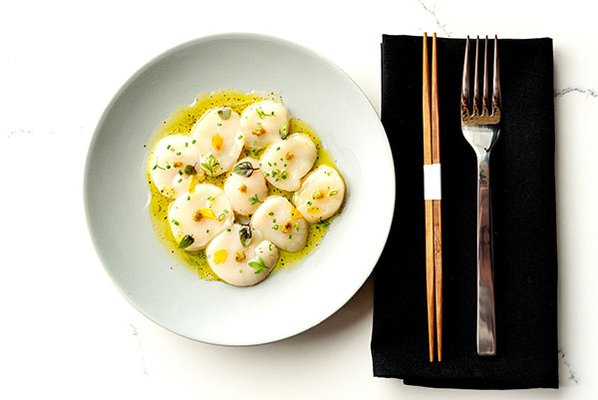sushi: (82, 35, 399, 347)
